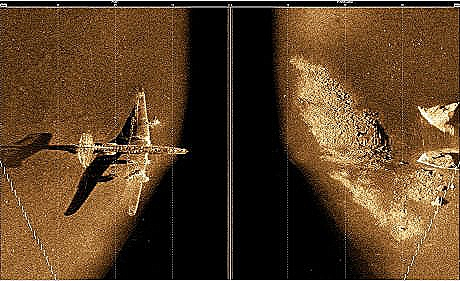aircraft: (70, 85, 191, 218)
